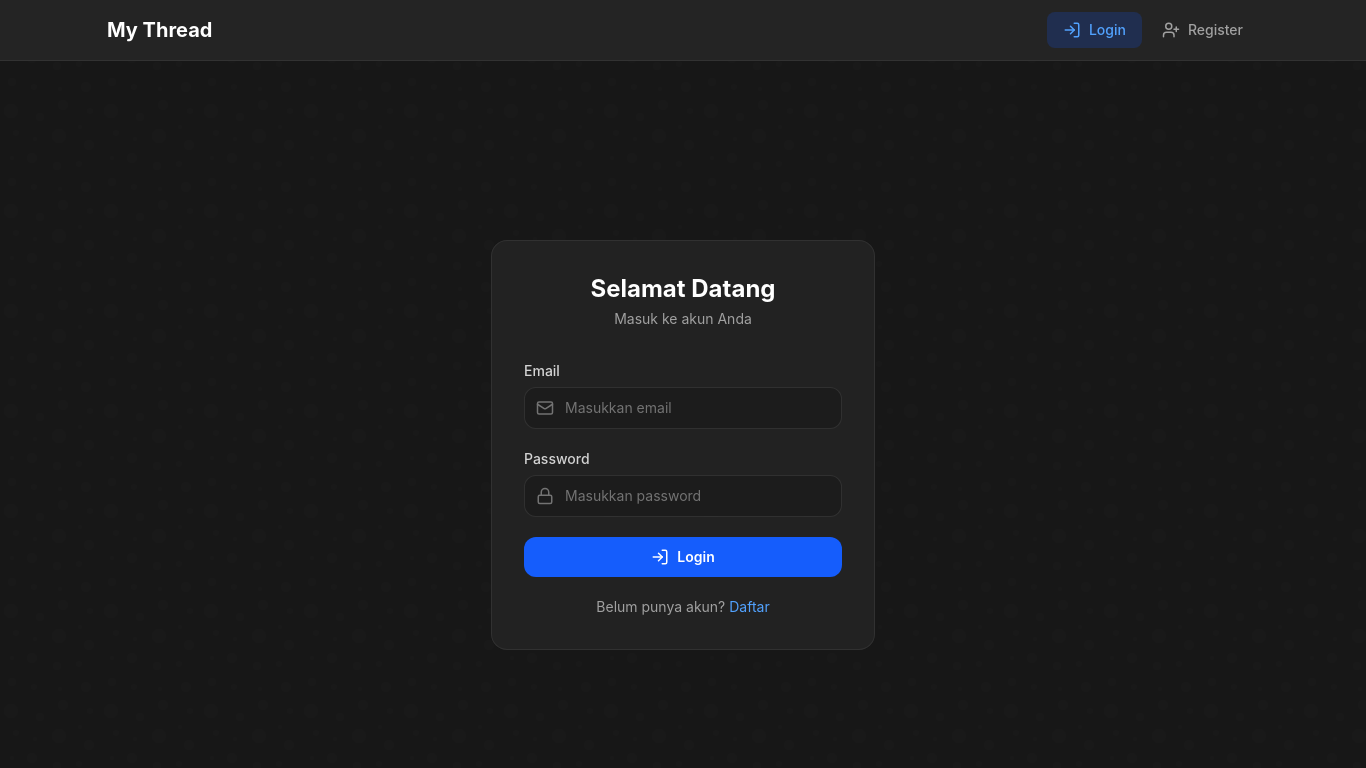
Test case: Login Flow › should login successfully with valid credentials
The width and height of the screenshot is (1366, 768).
Type "test@gmail.com" into the field with placeholder "Masukkan email". click: x=683, y=408
box: [524, 387, 842, 429]
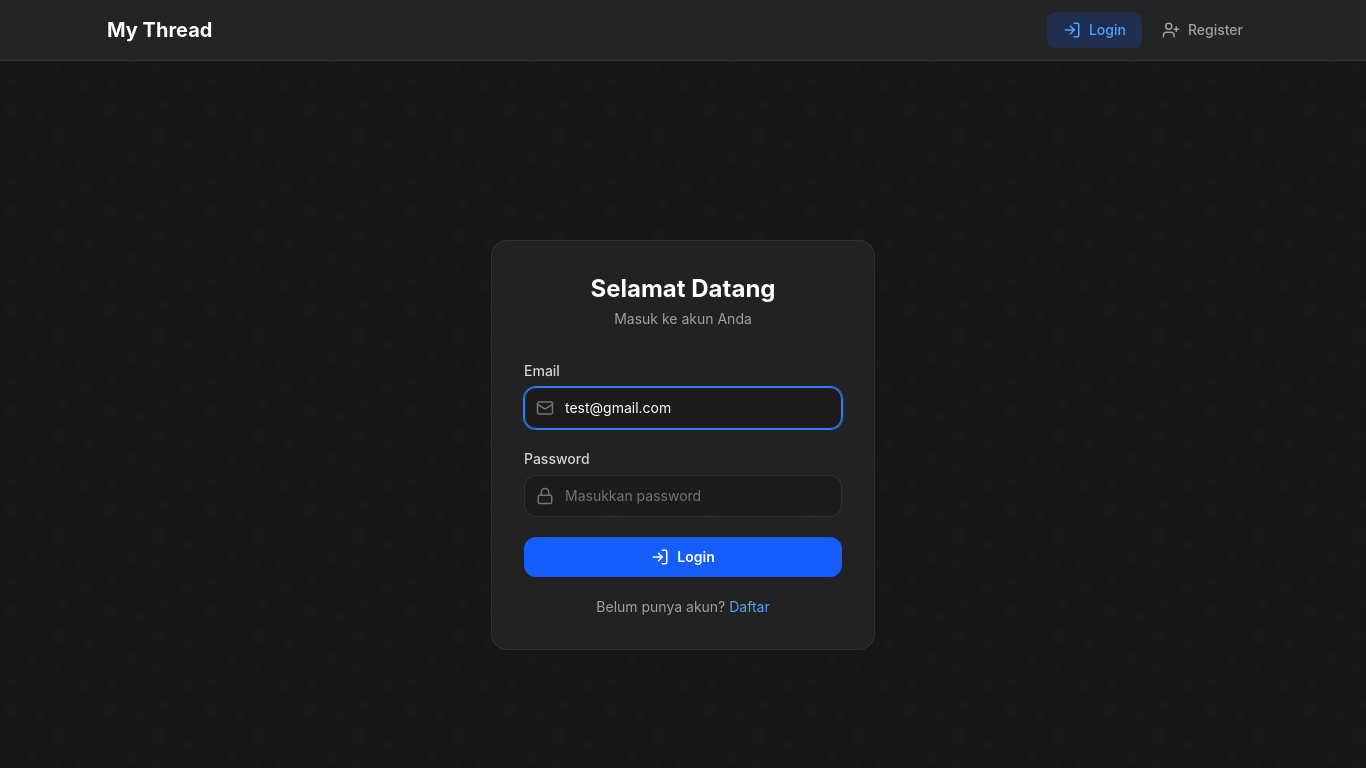
Type "password123" into the password field with placeholder "Masukkan password". click: x=683, y=496
box: [524, 475, 842, 517]
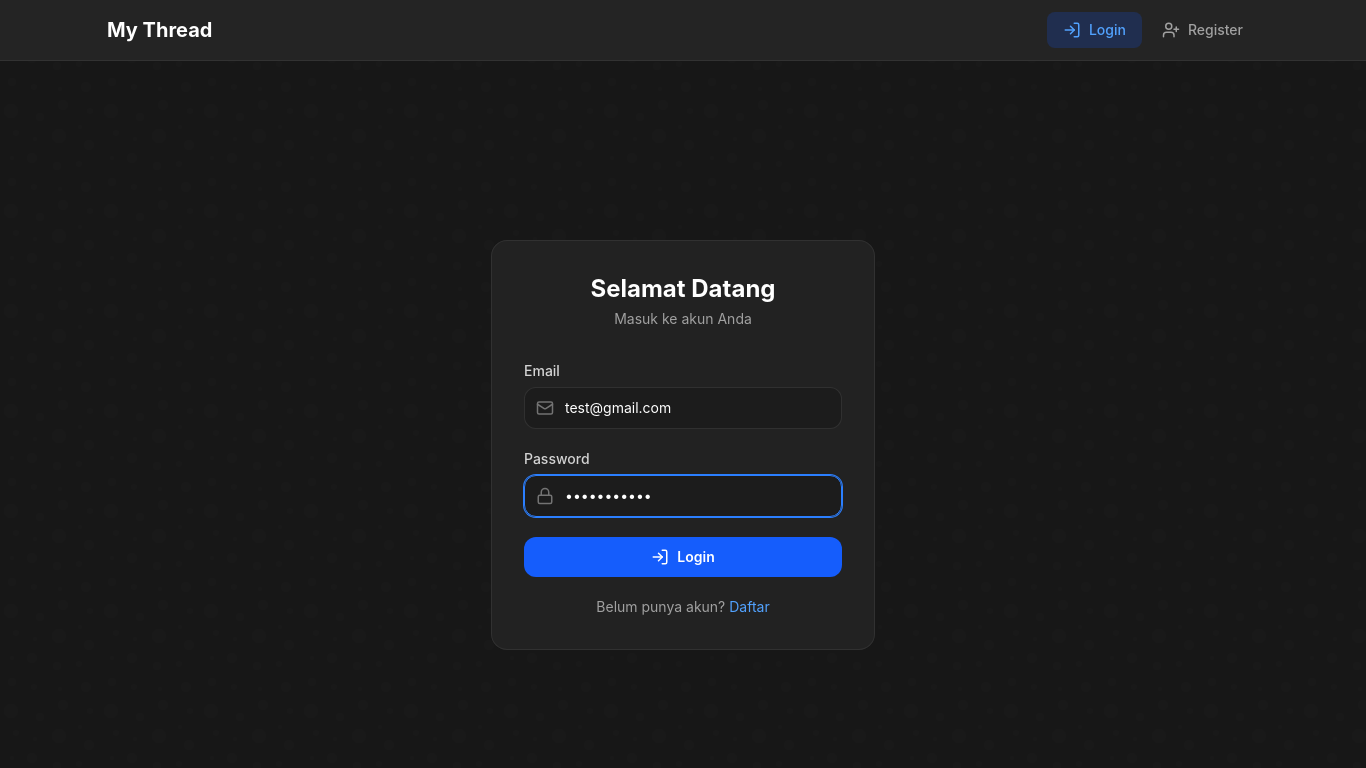
Click the submit button. click: x=683, y=557
box: [524, 537, 842, 577]
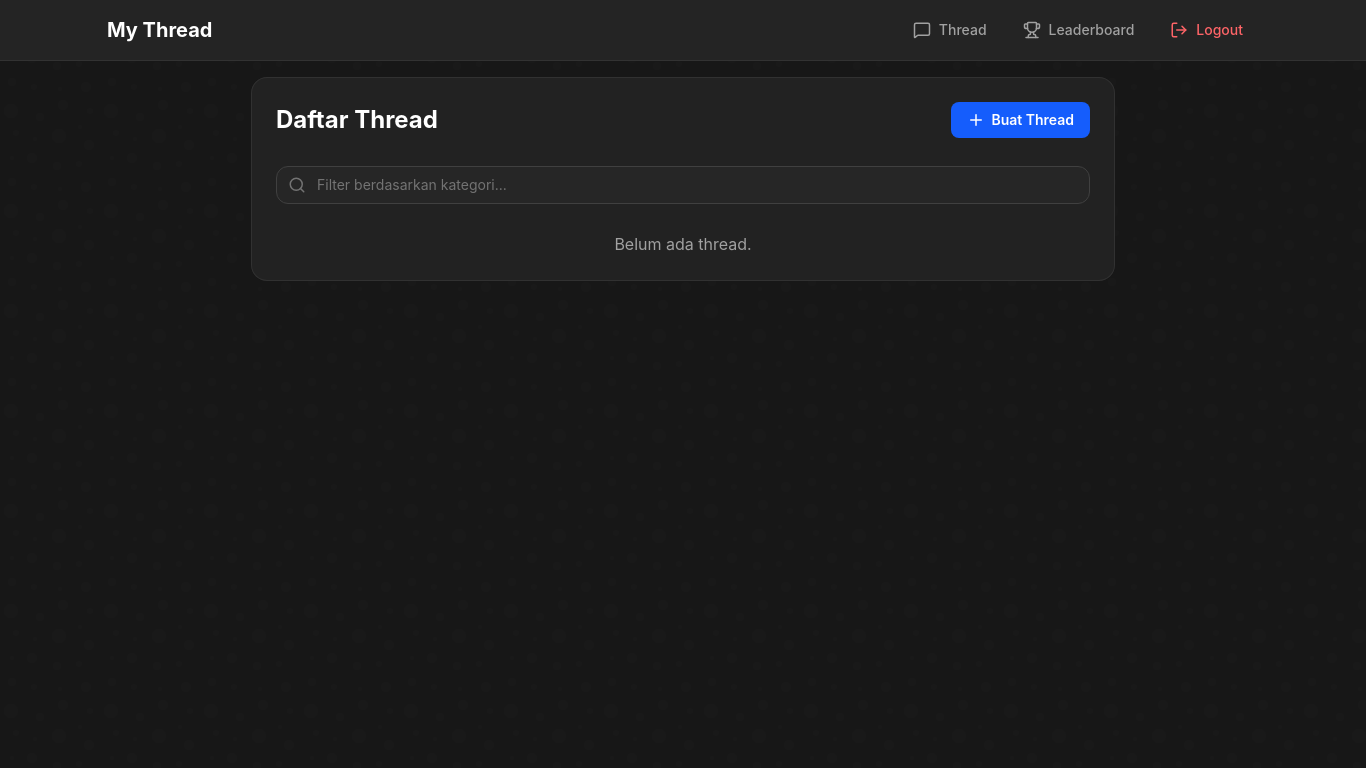
Now the heading "Daftar Thread" is shown, box [276, 104, 438, 136]
